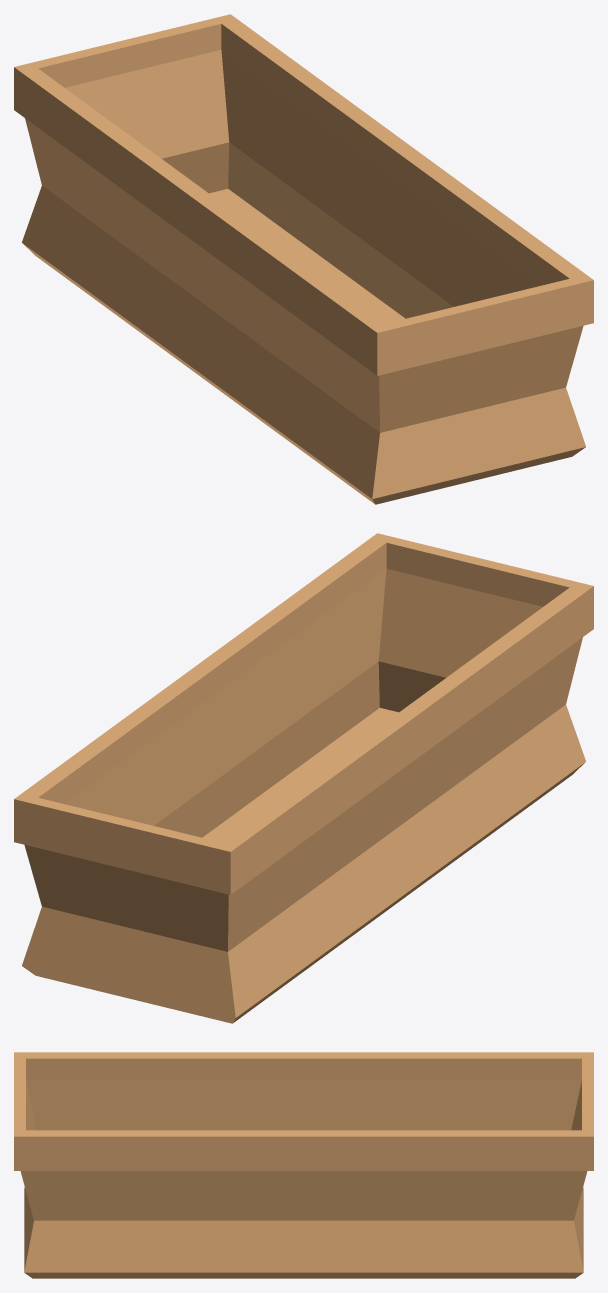
Rendered from LongPot.fbx.
3 views of the same model, one above another, from view 1: azimuth 30°, elevation 25°; view 2: azimuth 150°, elevation 25°; view 3: azimuth 270°, elevation 25° (orthographic). The views are drawn at different scales.
Parts seen in each view (by area): view 1: Cube.002; view 2: Cube.002; view 3: Cube.002.
Part boxes in pixels (<box>): Cube.002: <box>14,14,593,504</box>; Cube.002: <box>14,533,593,1023</box>; Cube.002: <box>14,1052,593,1278</box>.
Bounding box in the file's own units: 1054 × 850 × 3062.
